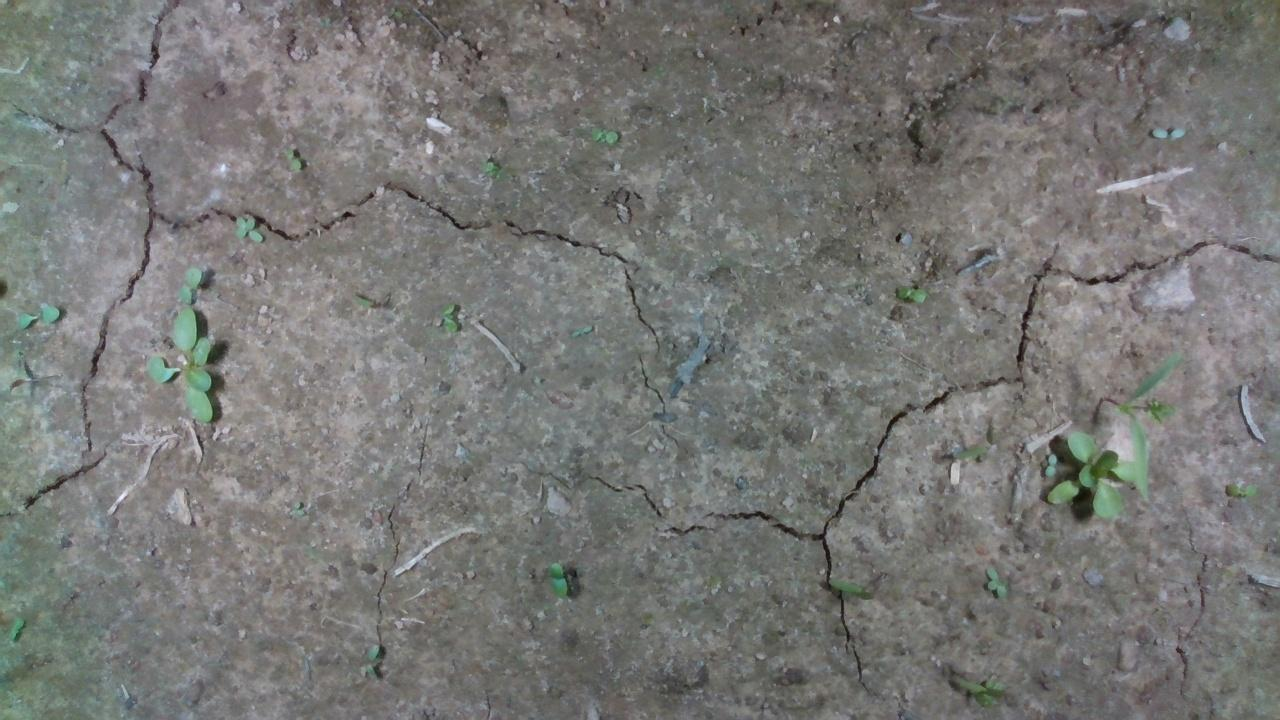weed: (8, 298, 72, 335), (979, 561, 1021, 603), (540, 559, 583, 600), (1145, 120, 1201, 150), (422, 297, 466, 330), (231, 212, 271, 248), (1221, 477, 1265, 508), (893, 282, 938, 308), (582, 122, 624, 145), (277, 143, 304, 175)
